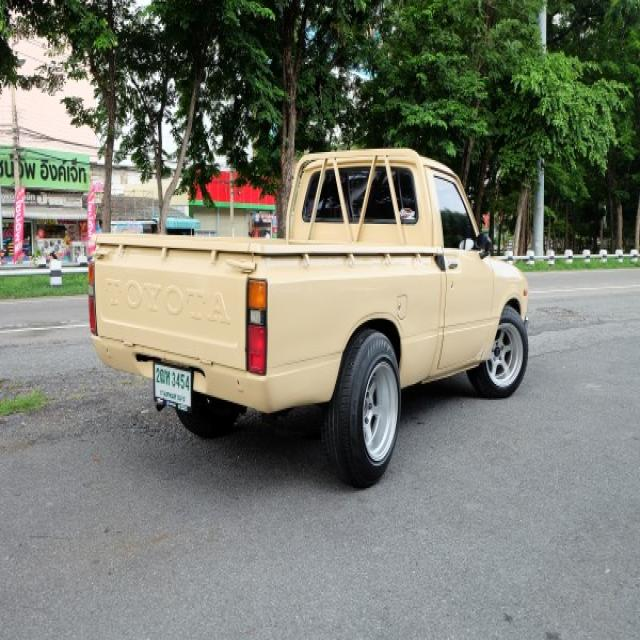license_plate: (153, 358, 195, 416)
